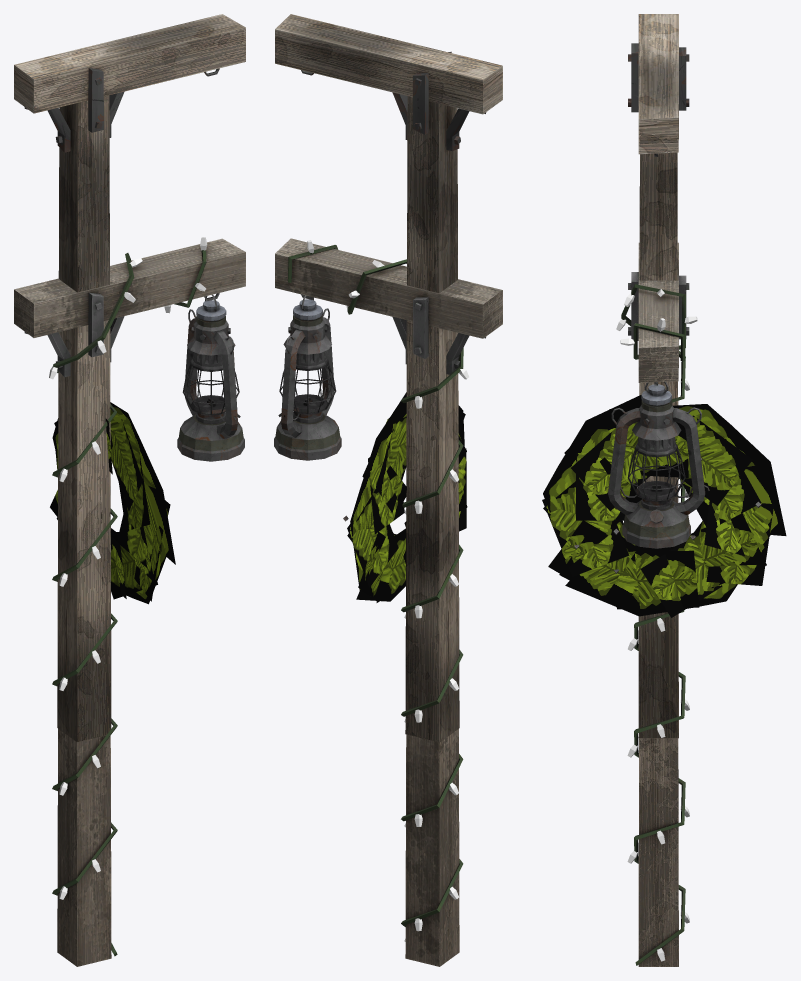
File: HolidayLampPole2.glb
3 views of the same model, side by side, from view 1: azimuth 30°, elevation 25°; view 2: azimuth 150°, elevation 25°; view 3: azimuth 270°, elevation 25° (orthographic).
Visible parts, largest first — view 1: HolidayLampPole2, NewOffset, lantern; view 2: HolidayLampPole2, NewOffset, lantern; view 3: NewOffset, HolidayLampPole2, lantern.
Boxes of the visible parts, left/top/right/bottom form: HolidayLampPole2: left=14, top=14, right=245, bottom=742; NewOffset: left=14, top=237, right=245, bottom=966; lantern: left=177, top=294, right=244, bottom=461; HolidayLampPole2: left=275, top=14, right=502, bottom=742; NewOffset: left=275, top=238, right=502, bottom=966; lantern: left=274, top=295, right=341, bottom=460; NewOffset: left=542, top=242, right=786, bottom=966; HolidayLampPole2: left=628, top=14, right=689, bottom=738; lantern: left=604, top=381, right=709, bottom=548.
Bounding box in the file's own units: 1 × 4 × 1.01.
Materials: 5 (4 with a texture image).
